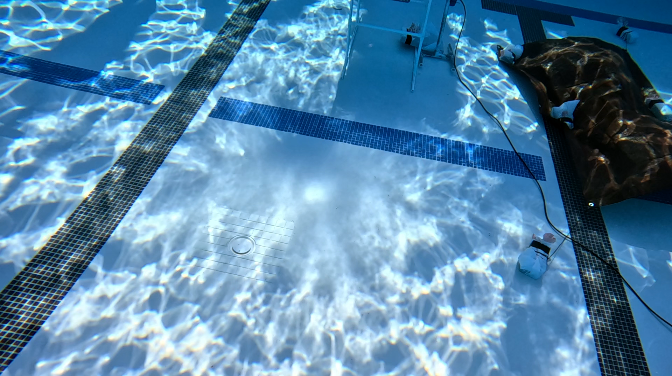sandbag: (492, 30, 671, 206)
